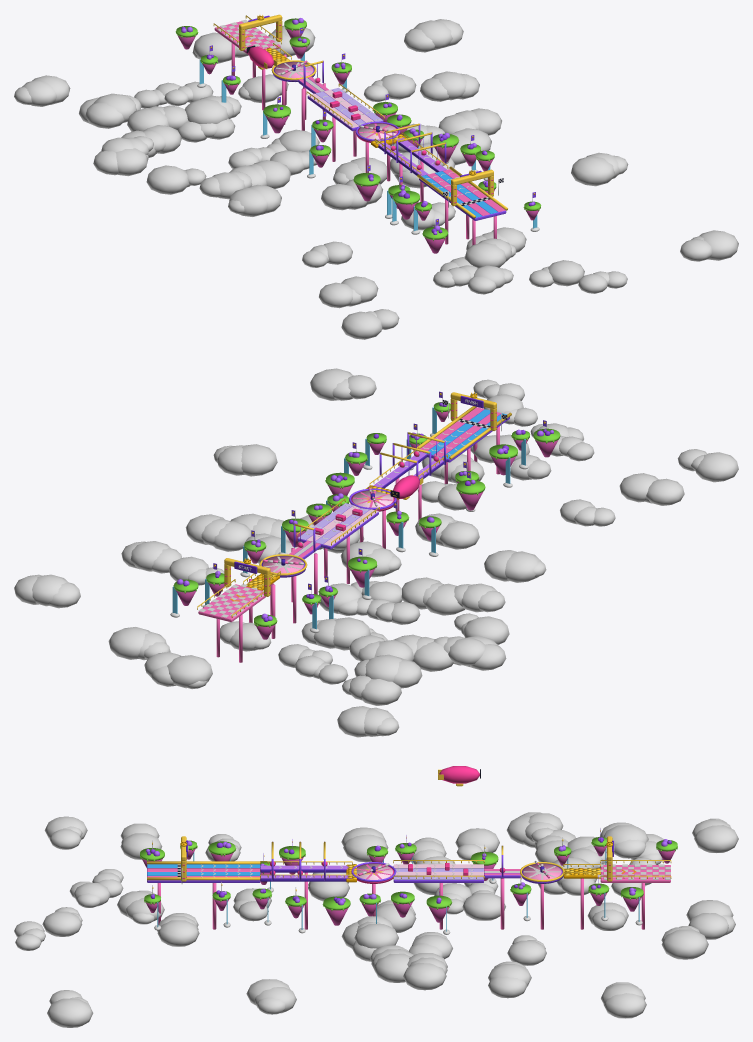
File: marteaux.glb
The picture shows the model from 3 angles, top to bottom: view 1: azimuth 30°, elevation 25°; view 2: azimuth 150°, elevation 25°; view 3: azimuth 270°, elevation 25°; orthographic projection. The views are drawn at different scales.
Visible parts, largest first — view 1: CLD19_0, CLD11_0, CLD29_0, CLD14_0, CLD13_0, CLD38_0, CLD43_2, CLD18_0, CLD44_1, CLD24_2, CLD15_1, CLD16_0 (+16 smaller); view 2: CLD13_0, ENV_start_base, CLD29_0, CLD19_0, CLD40_2, CLD11_0, CLD9_0, CLD14_0, CLD2_0, CLD44_1, CLD7_0, CLD32_0 (+15 smaller); view 3: CLD40_2, CLD43_2, CLD36_2, CLD32_2, CLD33_2, CLD22_2, CLD23_2, CLD37_2, ENV_start_base, CLD17_2, CLD24_2, CLD4_2 (+25 smaller).
Boxes of the visible parts, x1=… form: CLD19_0: x1=571, y1=156, x2=614, y2=186; CLD11_0: x1=146, y1=165, x2=188, y2=194; CLD29_0: x1=341, y1=311, x2=382, y2=339; CLD14_0: x1=185, y1=98, x2=228, y2=123; CLD13_0: x1=193, y1=32, x2=237, y2=63; CLD38_0: x1=464, y1=242, x2=506, y2=267; CLD43_2: x1=699, y1=230, x2=738, y2=260; CLD18_0: x1=85, y1=102, x2=124, y2=128; CLD44_1: x1=229, y1=187, x2=268, y2=216; CLD24_2: x1=548, y1=260, x2=584, y2=286; CLD15_1: x1=115, y1=148, x2=148, y2=176; CLD16_0: x1=127, y1=108, x2=169, y2=131; CLD13_0: x1=167, y1=655, x2=212, y2=688; ENV_start_base: x1=198, y1=584, x2=265, y2=622; CLD29_0: x1=695, y1=452, x2=738, y2=482; CLD19_0: x1=241, y1=444, x2=277, y2=476; CLD40_2: x1=108, y1=627, x2=149, y2=659; CLD11_0: x1=463, y1=616, x2=509, y2=644; CLD9_0: x1=439, y1=521, x2=479, y2=549; CLD14_0: x1=333, y1=617, x2=370, y2=650; CLD2_0: x1=361, y1=679, x2=401, y2=705; CLD44_1: x1=505, y1=551, x2=540, y2=582; CLD7_0: x1=412, y1=641, x2=453, y2=671; CLD32_0: x1=213, y1=521, x2=251, y2=551; CLD40_2: x1=661, y1=929, x2=708, y2=959; CLD43_2: x1=47, y1=998, x2=93, y2=1027; CLD36_2: x1=694, y1=825, x2=738, y2=852; CLD32_2: x1=403, y1=962, x2=446, y2=990; CLD33_2: x1=462, y1=893, x2=505, y2=920; CLD22_2: x1=157, y1=920, x2=199, y2=946; CLD23_2: x1=354, y1=924, x2=398, y2=948; CLD37_2: x1=603, y1=993, x2=646, y2=1018; ENV_start_base: x1=600, y1=865, x2=670, y2=882; CLD17_2: x1=373, y1=953, x2=410, y2=982; CLD24_2: x1=42, y1=911, x2=82, y2=936; CLD4_2: x1=507, y1=940, x2=546, y2=965.
Size of the model in its own units: 155 by 47.08 by 237.
